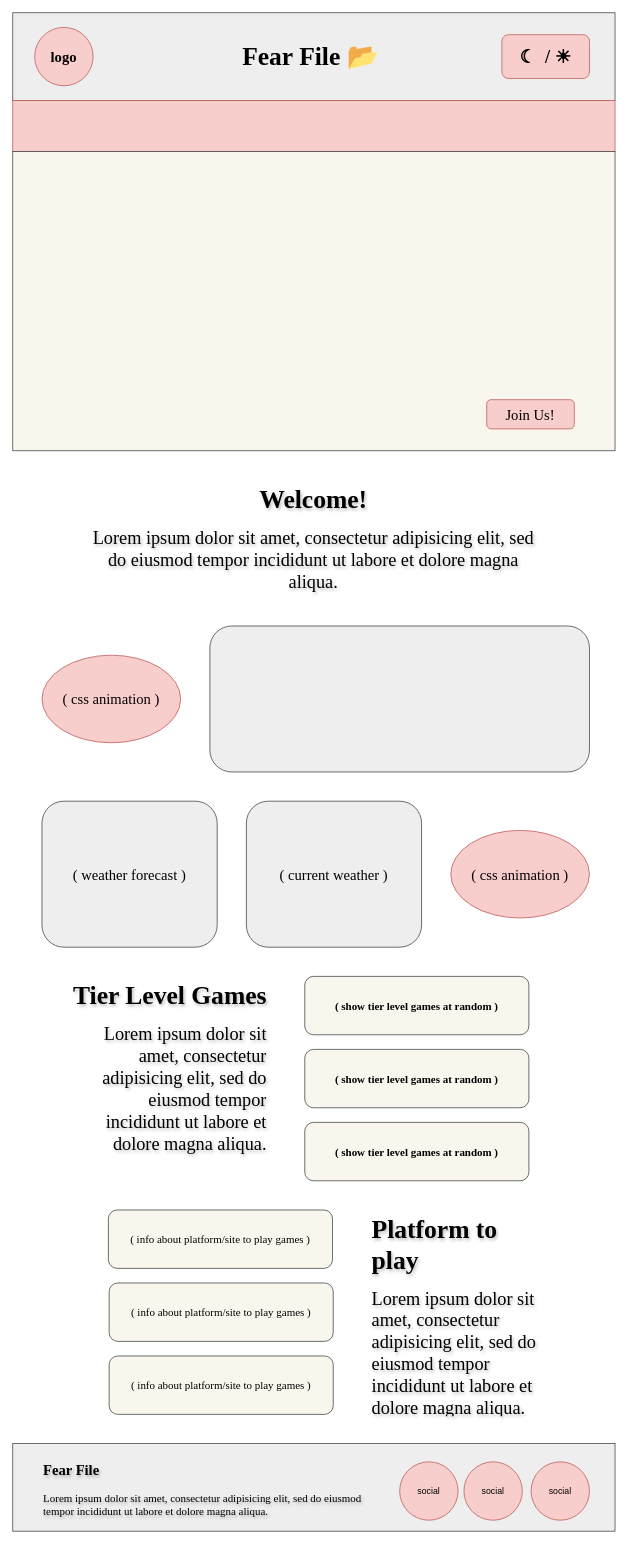
Image size: 628x1544. Some labels were removed from this diagram. The box of each missing label's shape, as (x1, y1, x2, y2) in pixels:
( club events ): (209, 625, 589, 772)
Hero Image: (12, 151, 615, 451)
Home | Review | Discover | Join | About Us: (12, 100, 615, 151)
